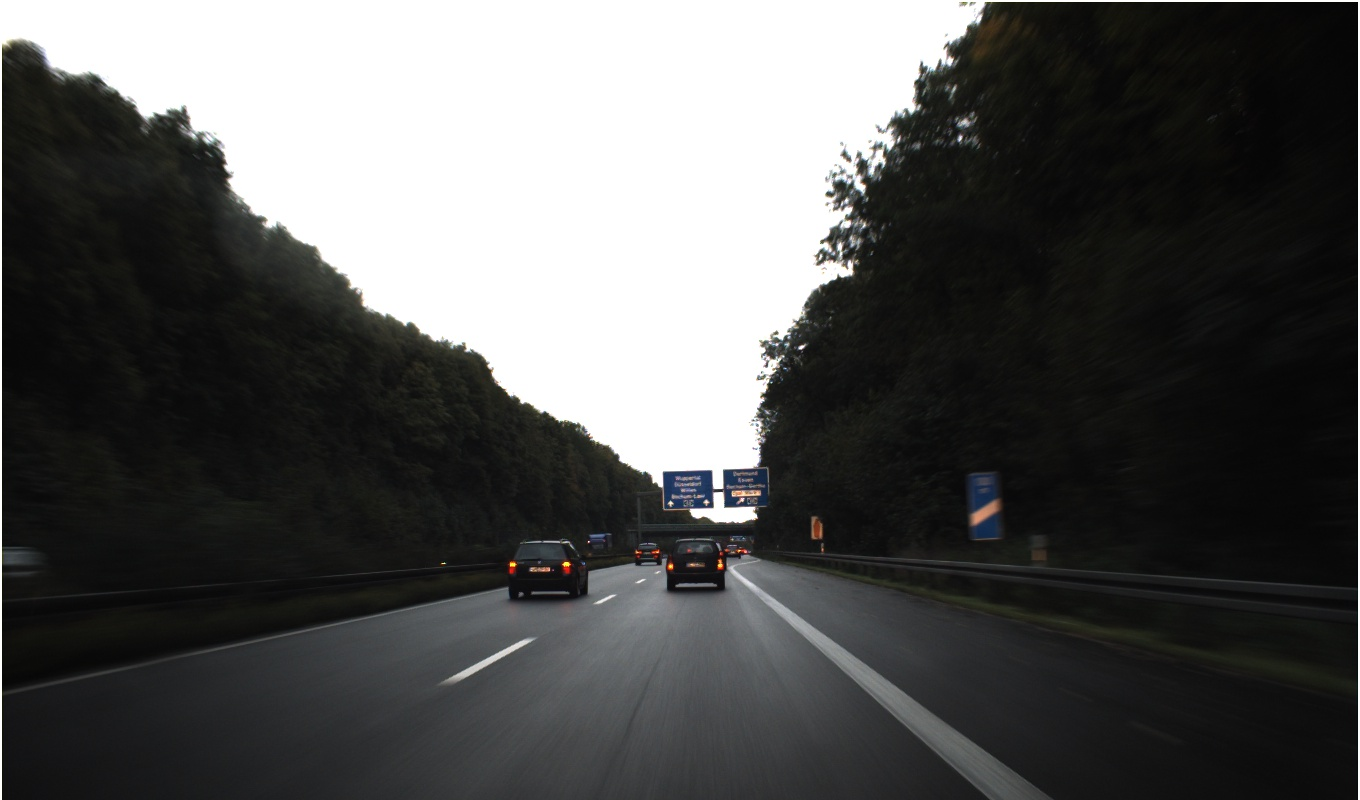car: (513, 525, 599, 621), (666, 538, 736, 606), (584, 523, 618, 564), (632, 534, 663, 575), (736, 535, 751, 562), (725, 539, 741, 563)
